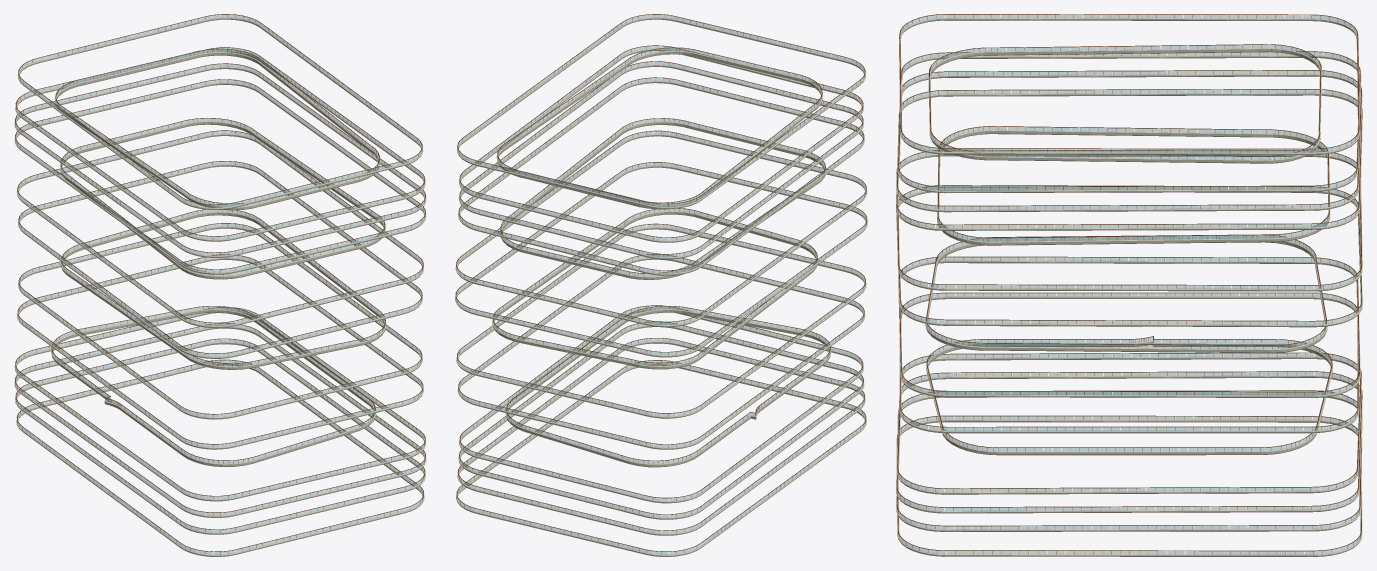
The model's file is AST-ATR-001.glb.
3 renders of one model, left to right at view 1: azimuth 30°, elevation 25°; view 2: azimuth 150°, elevation 25°; view 3: azimuth 270°, elevation 25°, orthographic. The views are drawn at different scales.
Parts seen in each view (by area): view 1: D16_ivory_enamel, D06_ivory_enamel, D09_ivory_enamel, D12_ivory_enamel, D14_ivory_enamel, D17_ivory_enamel, D13_ivory_enamel, D17_gallery_glass, D14_gallery_glass, D13_gallery_glass, D03_ivory_enamel, D11_ivory_enamel (+36 smaller); view 2: D06_ivory_enamel, D09_ivory_enamel, D12_ivory_enamel, D17_ivory_enamel, D17_gallery_glass, D14_ivory_enamel, D13_ivory_enamel, D11_ivory_enamel, D10_ivory_enamel, D16_ivory_enamel, D08_ivory_enamel, D03_ivory_enamel (+36 smaller); view 3: D16_ivory_enamel, D12_ivory_enamel, D06_ivory_enamel, D07_gallery_glass, D07_ivory_enamel, D08_ivory_enamel, D05_ivory_enamel, D02_ivory_enamel, D17_ivory_enamel, D13_ivory_enamel, D04_ivory_enamel, D15_ivory_enamel (+37 smaller).
Boxes of the visible parts, x1,y1,x2,y2 form: D16_ivory_enamel: (55,52,380,210); D06_ivory_enamel: (51,309,376,466); D09_ivory_enamel: (60,211,386,369); D12_ivory_enamel: (60,121,385,279); D14_ivory_enamel: (14,66,426,257); D17_ivory_enamel: (17,17,423,209); D13_ivory_enamel: (14,82,426,274); D17_gallery_glass: (19,15,421,207); D14_gallery_glass: (16,64,425,255); D13_gallery_glass: (16,80,425,272); D03_ivory_enamel: (15,342,425,534); D11_ivory_enamel: (16,133,424,327); D06_ivory_enamel: (505,309,831,467); D09_ivory_enamel: (492,211,818,369); D12_ivory_enamel: (500,121,826,279); D17_ivory_enamel: (457,17,865,208); D17_gallery_glass: (458,15,864,206); D14_ivory_enamel: (459,64,863,259); D13_ivory_enamel: (458,80,864,275); D11_ivory_enamel: (455,134,867,327); D10_ivory_enamel: (455,165,867,357); D16_ivory_enamel: (496,50,822,209); D08_ivory_enamel: (456,227,866,418); D03_ivory_enamel: (457,341,865,535); D16_ivory_enamel: (928,48,1322,163); D12_ivory_enamel: (937,130,1330,245); D06_ivory_enamel: (926,340,1333,455); D07_gallery_glass: (901,293,1357,430); D07_ivory_enamel: (899,296,1359,433); D08_ivory_enamel: (898,260,1360,397); D05_ivory_enamel: (896,356,1362,494); D02_ivory_enamel: (896,419,1362,556); D17_ivory_enamel: (899,18,1359,155); D13_ivory_enamel: (896,92,1362,230); D04_ivory_enamel: (896,375,1362,513); D15_ivory_enamel: (897,55,1361,193).
Bounding box in the file's own units: 70.05 × 97.47 × 101.
4 materials, 3 textured.
